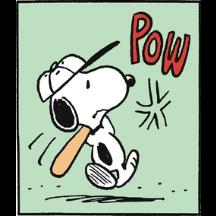snoopy: (35, 41, 139, 192)
